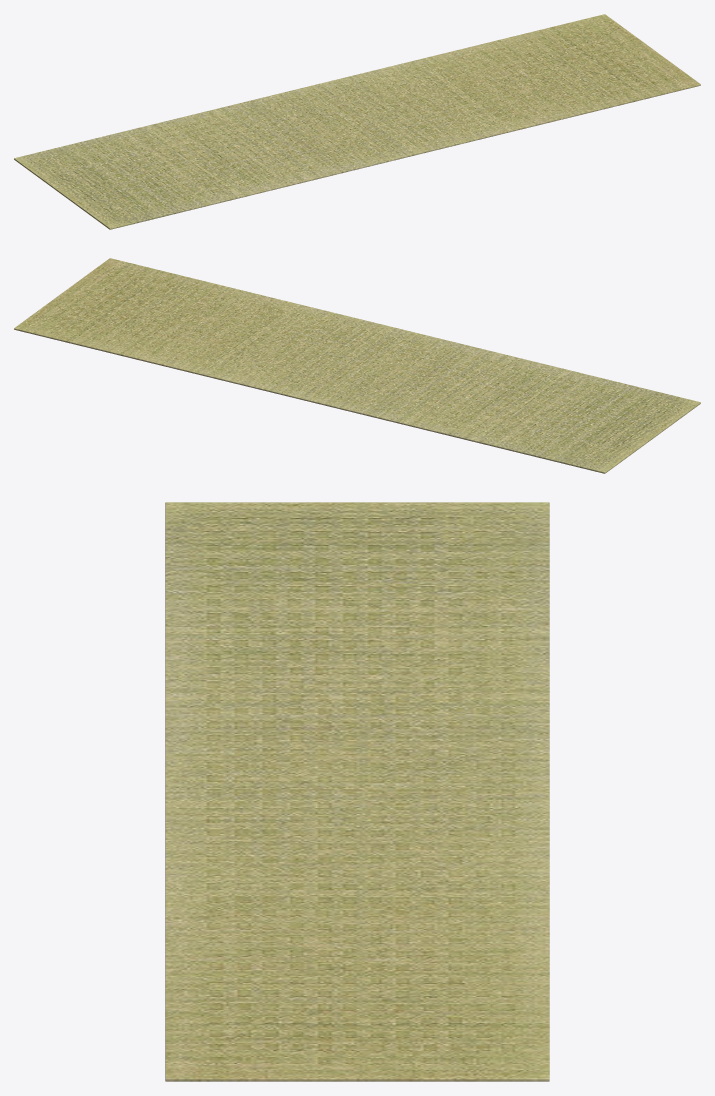
3 views of the same model, one above another, from view 1: azimuth 30°, elevation 25°; view 2: azimuth 150°, elevation 25°; view 3: azimuth 270°, elevation 25° (orthographic). The views are drawn at different scales.
Visible parts, largest first — view 1: RootNode; view 2: RootNode; view 3: RootNode.
Boxes of the visible parts, x1=… form: RootNode: x1=14, y1=14, x2=700, y2=229; RootNode: x1=14, y1=258, x2=700, y2=473; RootNode: x1=165, y1=502, x2=549, y2=1081.
Size of the model in its own units: 2.44 by 0.00635 by 0.6861.
1 material, 1 textured.
